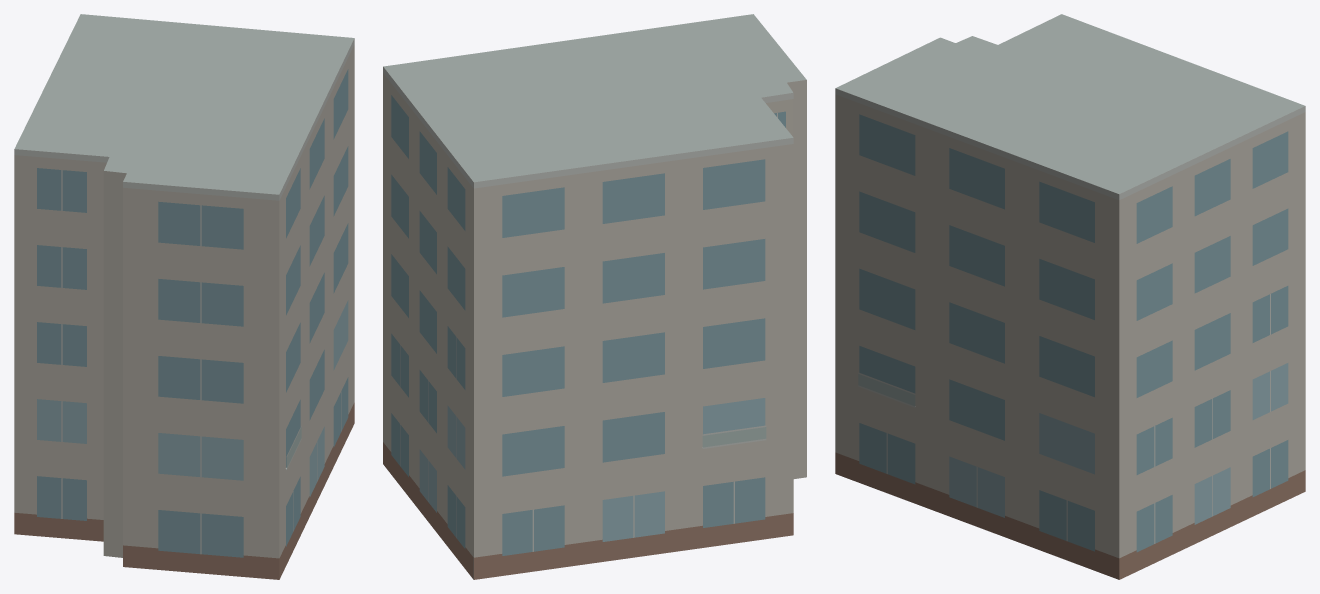
Rendered from survey-upis-32946954.glb.
3 renders of one model, left to right at view 1: azimuth 30°, elevation 25°; view 2: azimuth 150°, elevation 25°; view 3: azimuth 270°, elevation 25°, orthographic. The views are drawn at different scales.
Parts seen in each view (by area): view 1: survey-upis-32946954.tmp; view 2: survey-upis-32946954.tmp; view 3: survey-upis-32946954.tmp.
Boxes of the visible parts, box(x1,y1,x2,y2) form: survey-upis-32946954.tmp: box(14, 14, 354, 579); survey-upis-32946954.tmp: box(383, 14, 806, 579); survey-upis-32946954.tmp: box(835, 14, 1305, 579).
Bounding box in the file's own units: 15.7 × 15.65 × 17.31.
